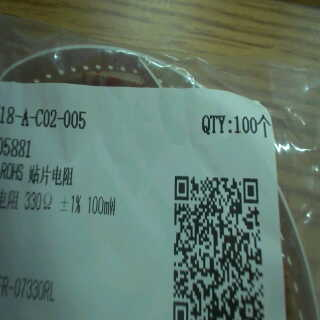330R: (23, 187, 56, 213)
